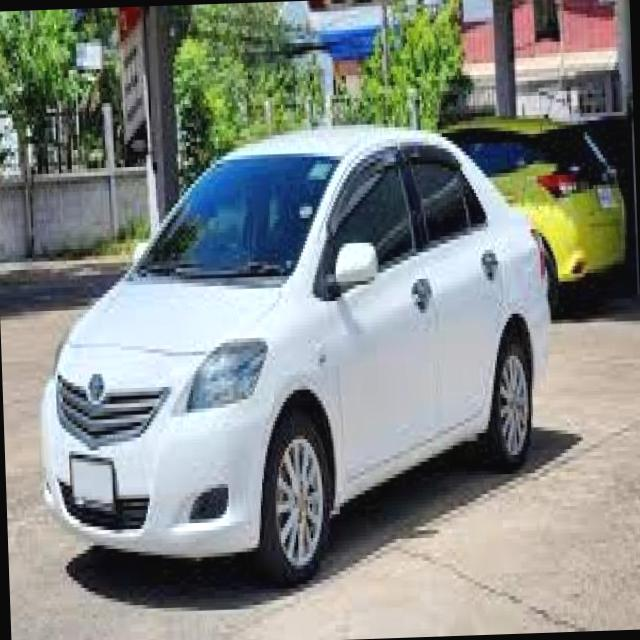ToyotaVios: (27, 110, 560, 593)
